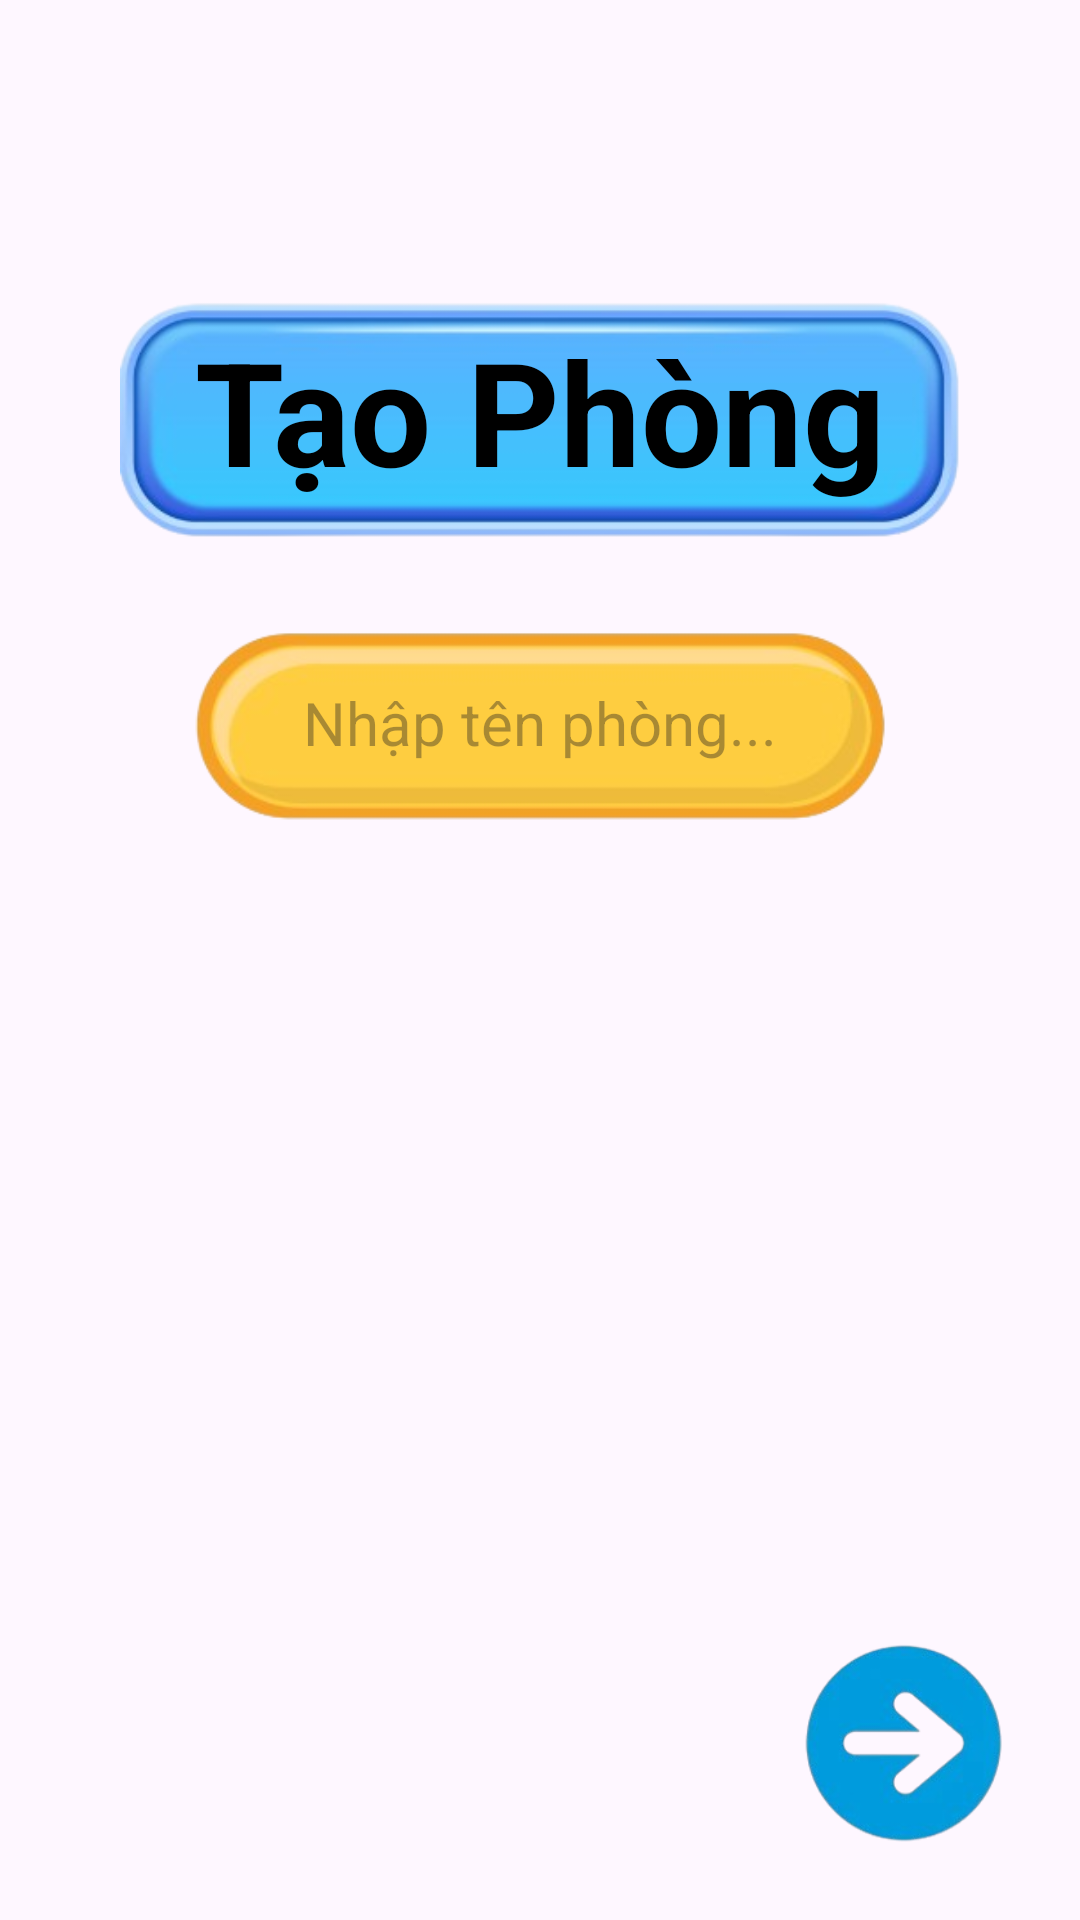

Point at icon controls on the screen. Image size 1080w x 1920h, points as (x=x, y=y).
Next: (x=903, y=1743)
